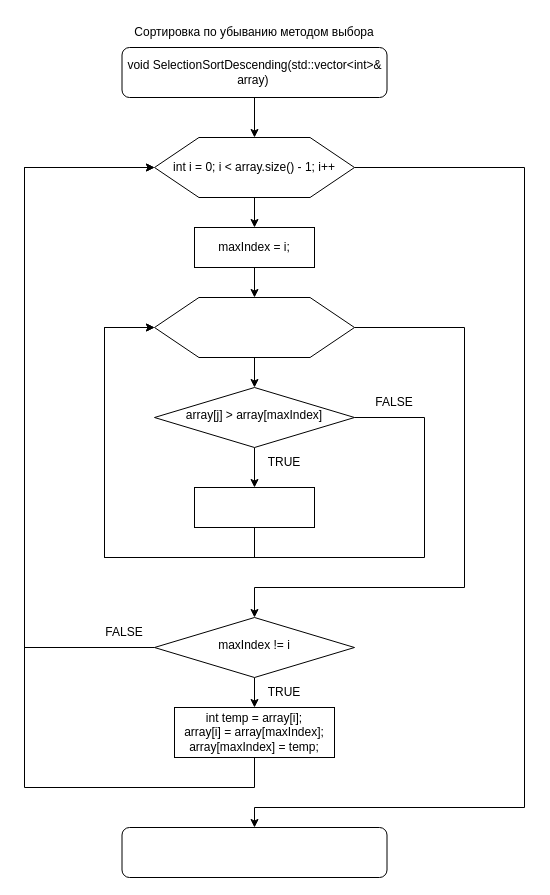
Image size: 550x895. Some labels were removed from this diagram. Here are the shapes that lost their labels. From the top down, the centre of each, then its label:
At pixel 254 327: "int j = i + 1; j < array.size(); j++".
At pixel 254 507: "maxIndex = j;".
At pixel 254 852: "КОНЕЦ".
